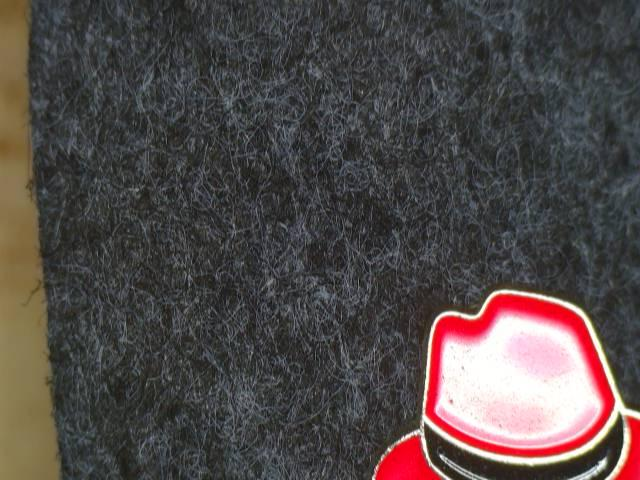Red-Hat: (336, 252, 640, 480)
